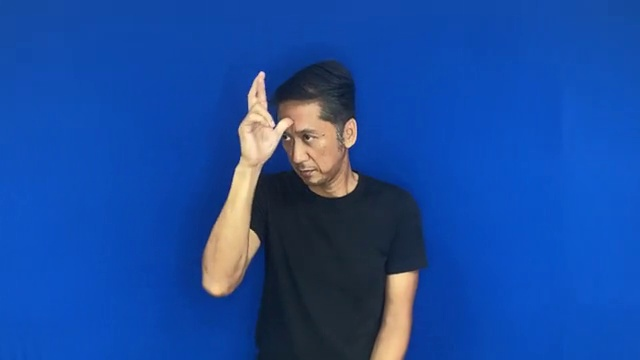chicken: (227, 63, 298, 171)
